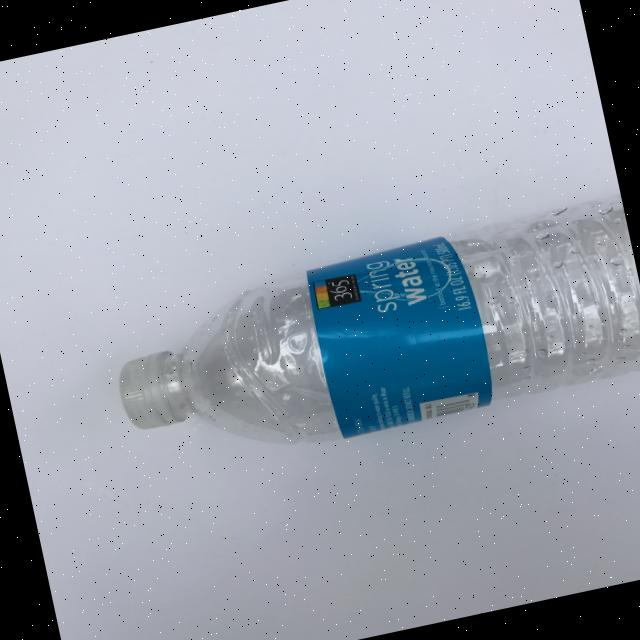plastic: (100, 192, 640, 482)
